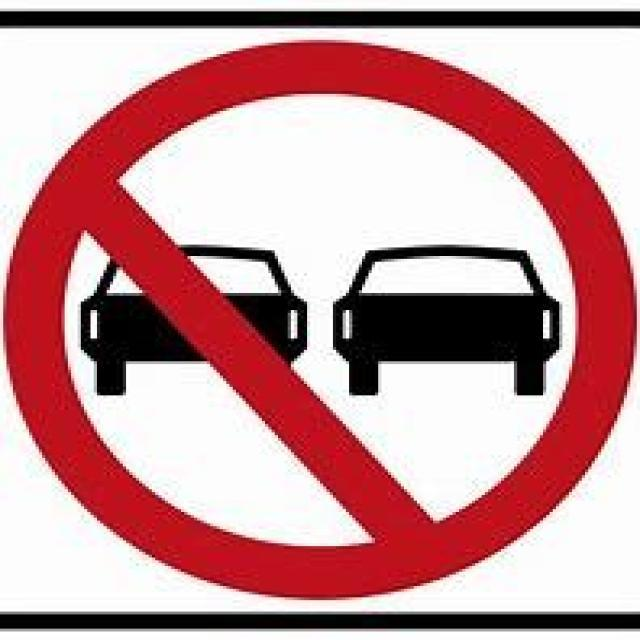overtaking prohibited: (10, 39, 631, 605)
